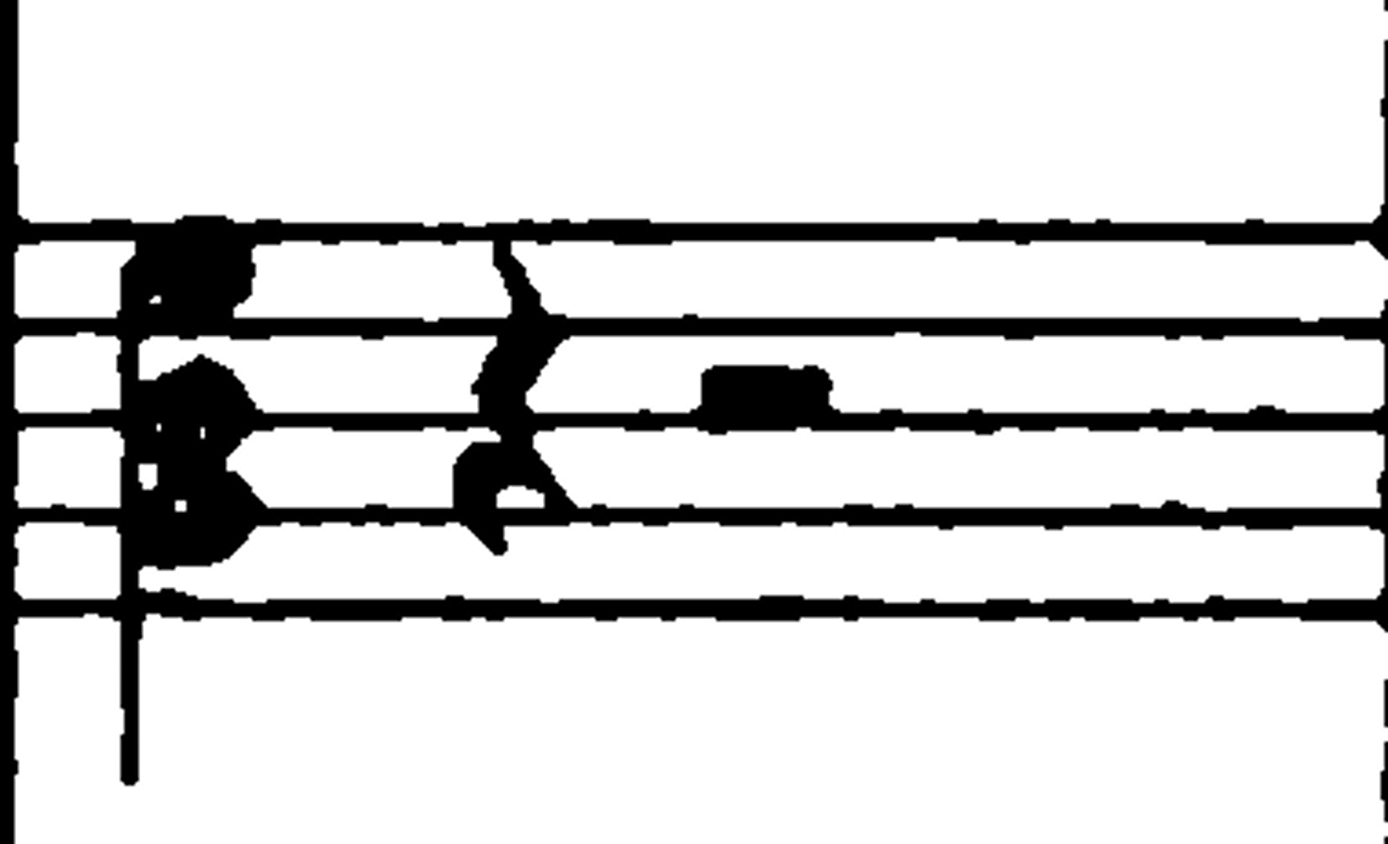accidentalNatural: (1384, 680, 1388, 742)
noteheadBlackInSpace: (454, 442, 534, 474), (454, 442, 508, 474), (478, 391, 530, 414), (231, 278, 251, 303)
noteheadBlackOnLine: (116, 309, 149, 345), (0, 312, 23, 349), (116, 319, 147, 346), (1370, 216, 1388, 257), (674, 504, 695, 520)
restHBar: (467, 494, 1385, 533), (157, 497, 1197, 530), (122, 310, 1162, 341)
restWhole: (581, 219, 653, 240), (4, 318, 77, 335), (978, 600, 1016, 620), (236, 412, 274, 430), (252, 508, 282, 525), (1156, 412, 1184, 430), (975, 413, 999, 434), (642, 507, 669, 525)
